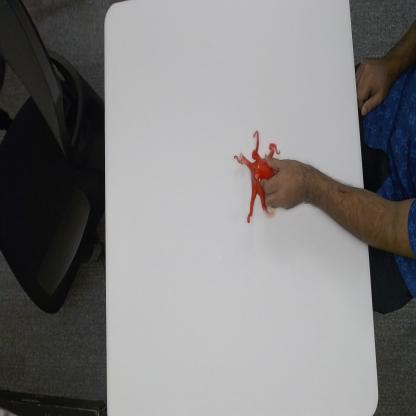Arm: (308, 161, 372, 253)
Hand: (259, 151, 307, 212)
Octopus: (232, 127, 282, 224)
